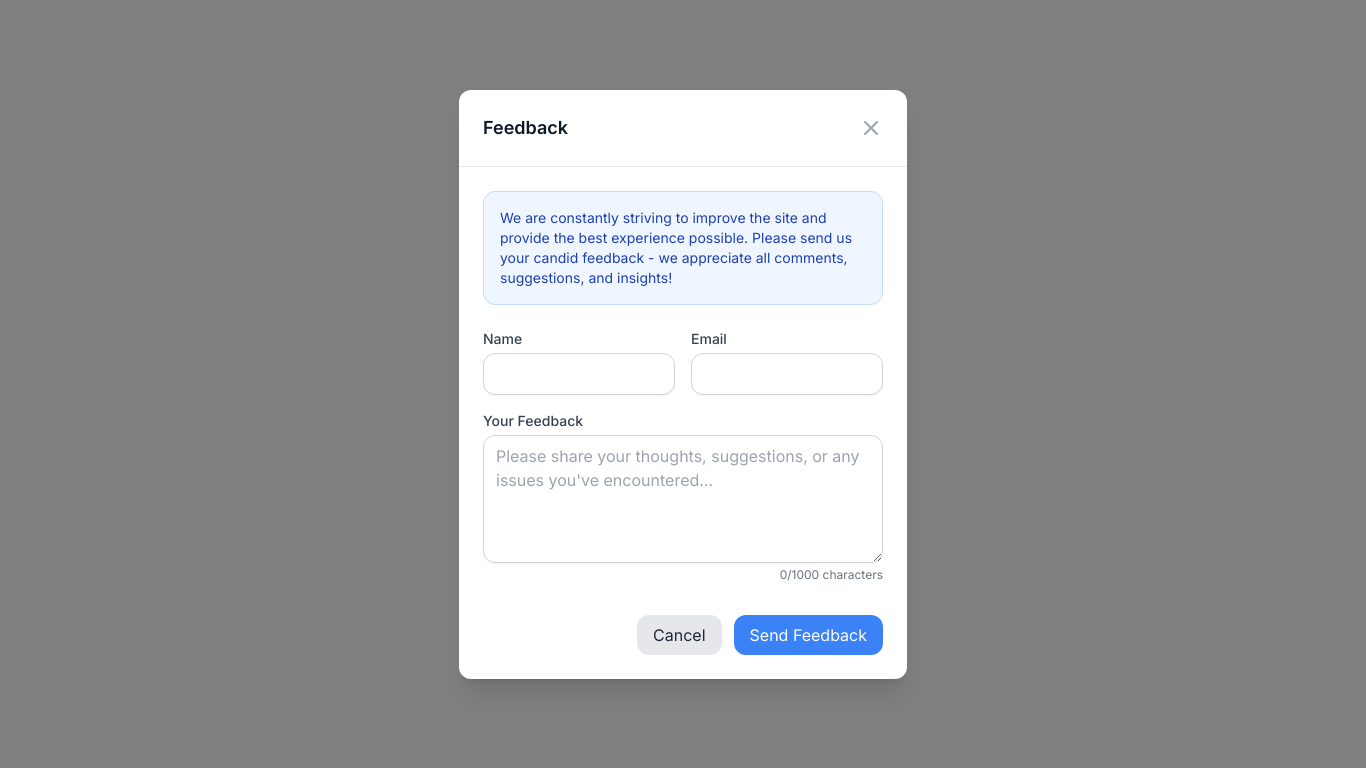
Scenario: FeedbackModal › validates required fields
// Try to submit with empty name
Type "test@example.com" into the field labelled "Email". click: (787, 374)
box: [691,352,883,394]
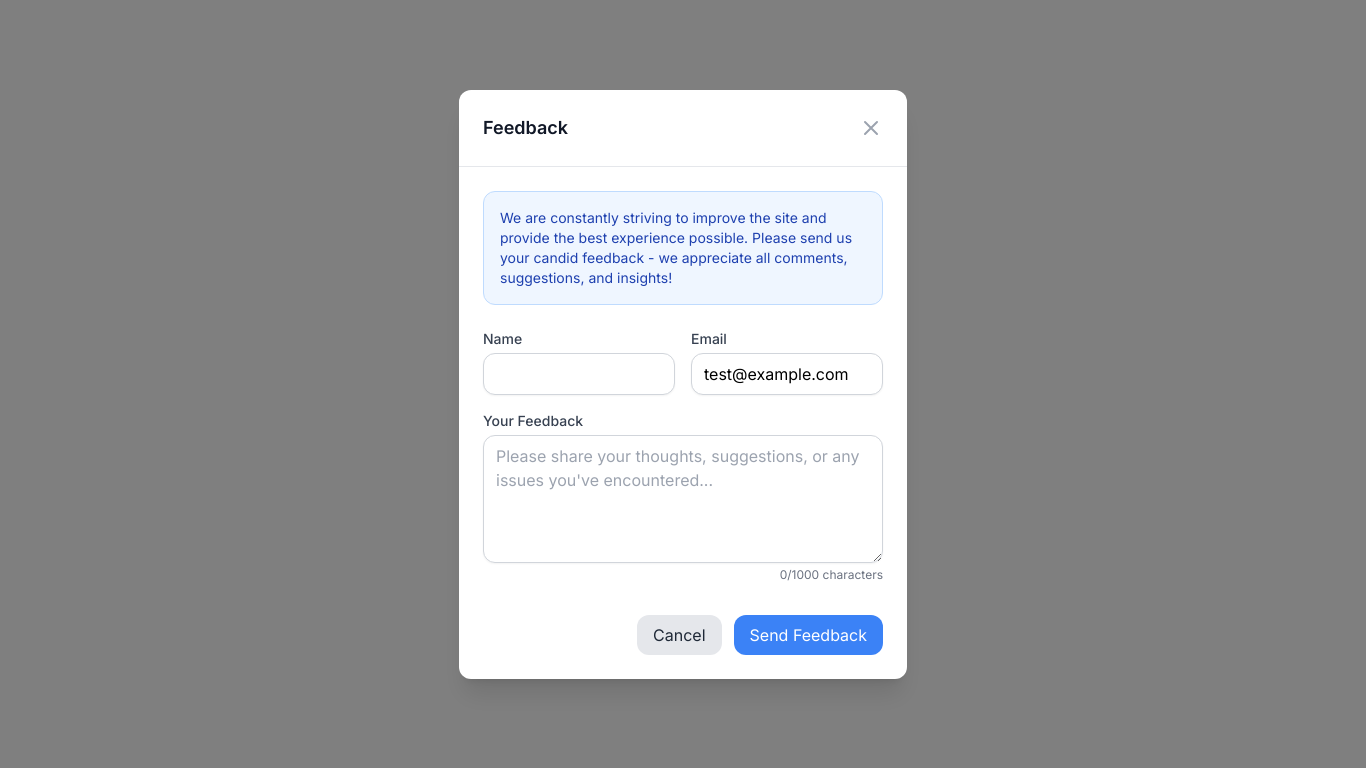
Replace the text in the text box labelled "Your Feedback" with "Test feedback". click: (683, 498)
box: [483,434,883,562]
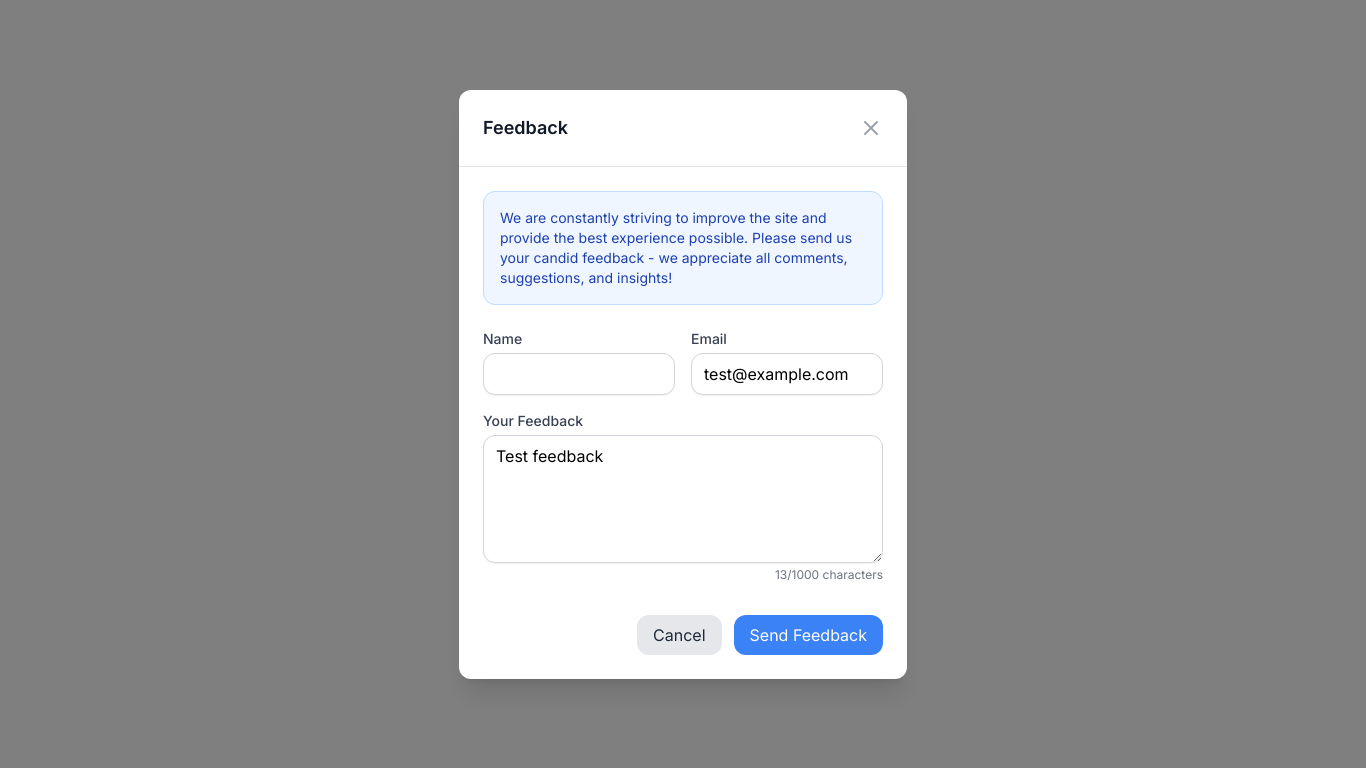
// Submit the form
Submit the form with test id "feedback-form", box [483,328,883,654]
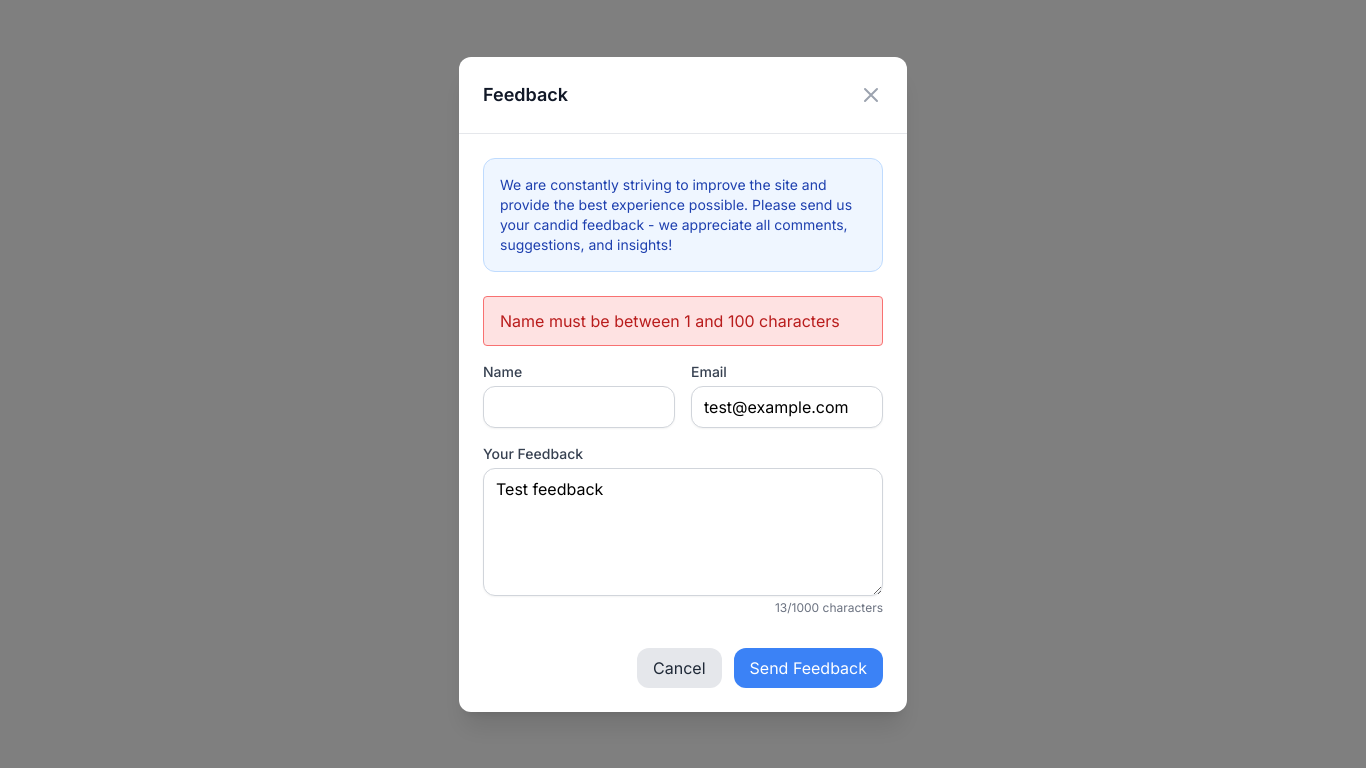
Expected: the text "Name must be between 1 and 100 characters" is shown, [500,310,840,330]
